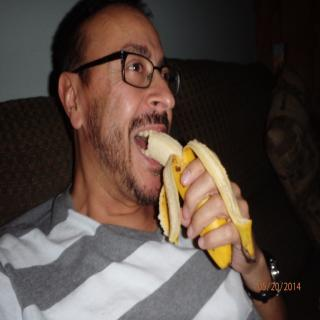Banana: (145, 130, 257, 262)
